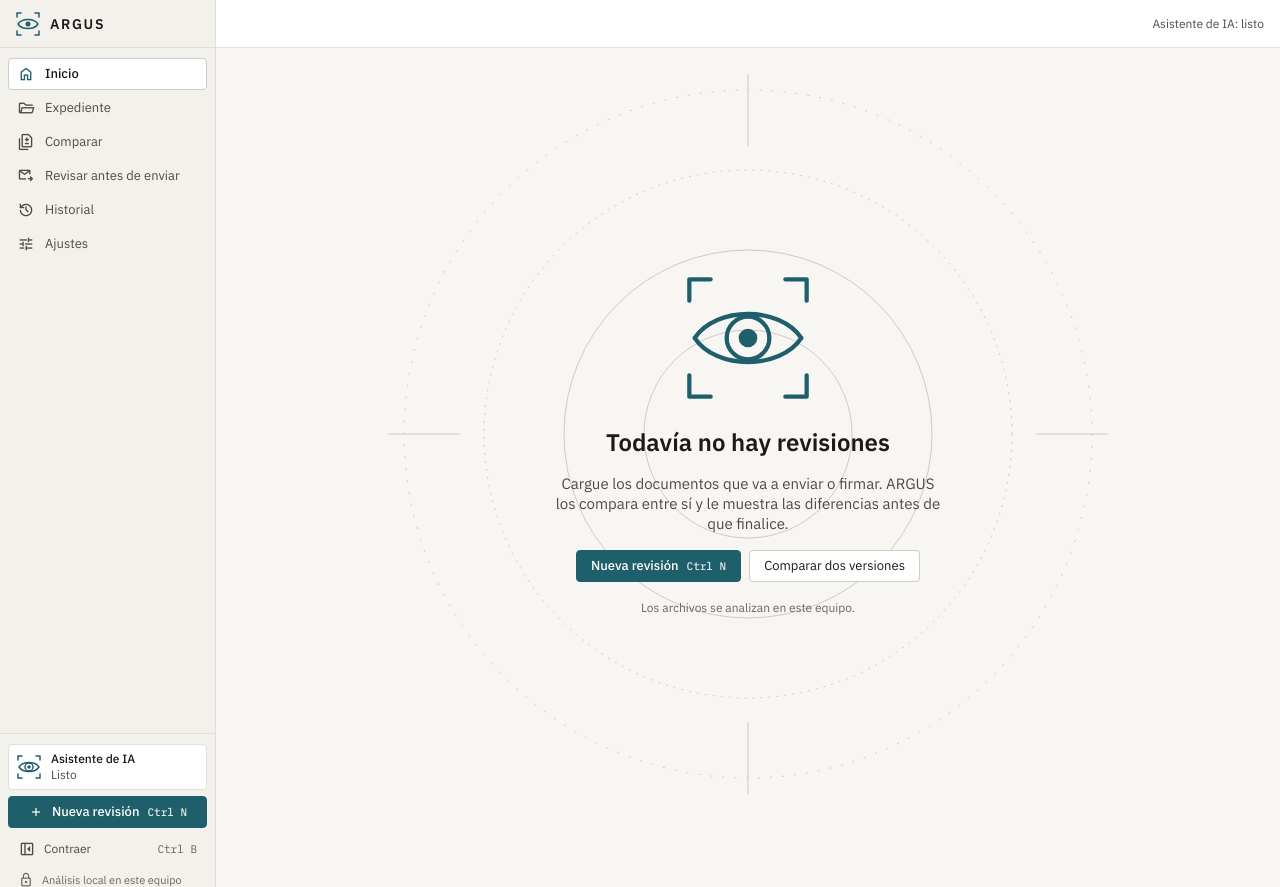
Scenario: Ajustes › no deja desmarcar el último tipo que se compara
The image size is (1280, 887).
Click the button "Ajustes". click: (108, 244)
box: [8,228,207,260]
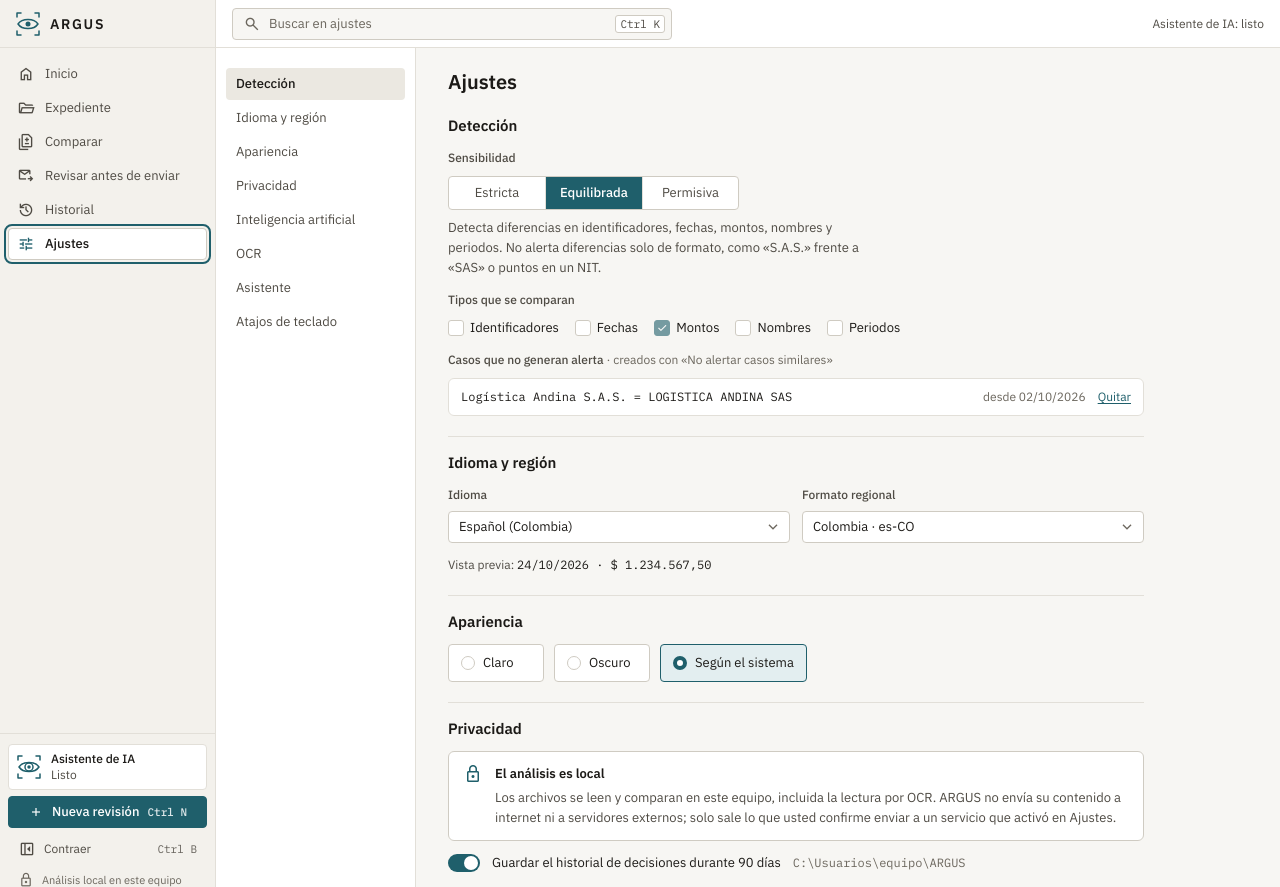
Check: the checkbox labelled "Montos" is disabled, box [654,318,719,338]
Check: the checkbox labelled "Fechas" is enabled, box [575,318,638,338]
